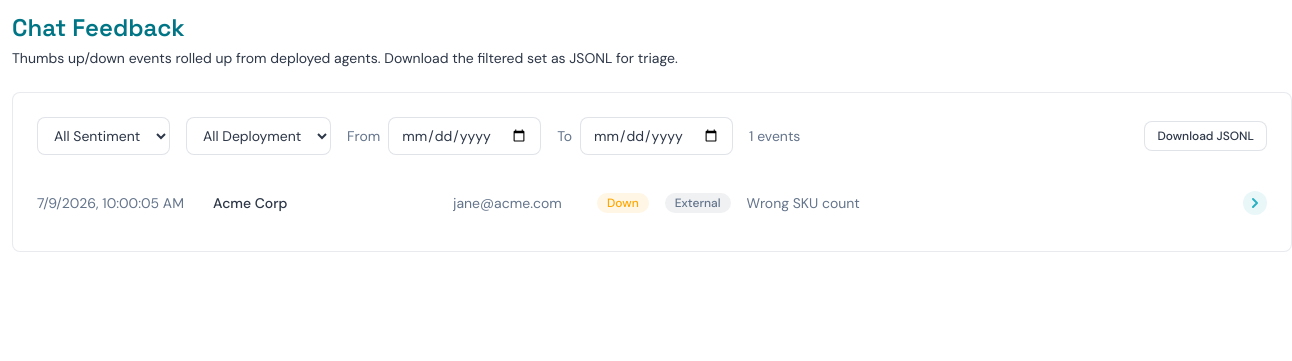
Test: AdminFeedbackPage › clicking a row toggles the detail region showing user_query and assistant_response
Expected: the text "What is the lead time for SKU-123?" is not shown
Click the button with aria-label "feedback from jane@acme.com" at [110, 203], box [37, 179, 1267, 227]
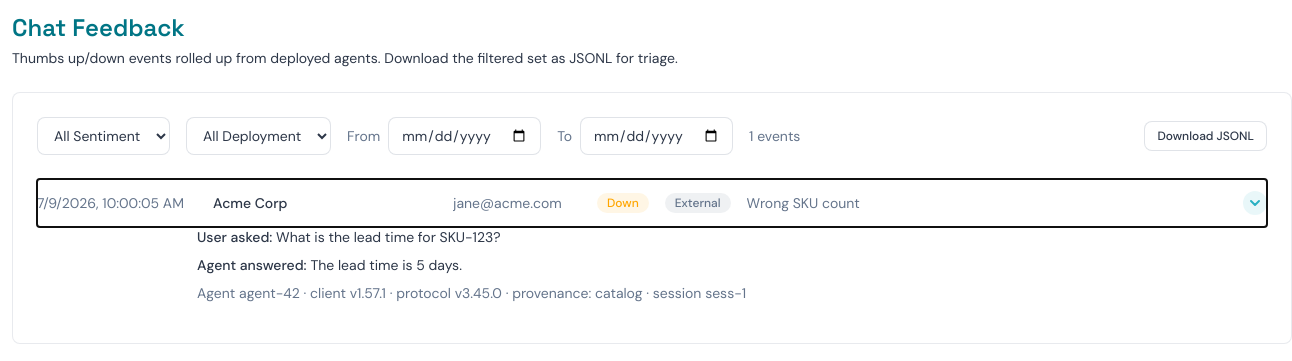
Expected: the text "What is the lead time for SKU-123?" is shown, [276, 228, 501, 246]
Expected: the text "The lead time is 5 days." is shown, [310, 256, 462, 274]
Click the button with aria-label "feedback from jane@acme.com" at [110, 203], box [37, 179, 1267, 227]
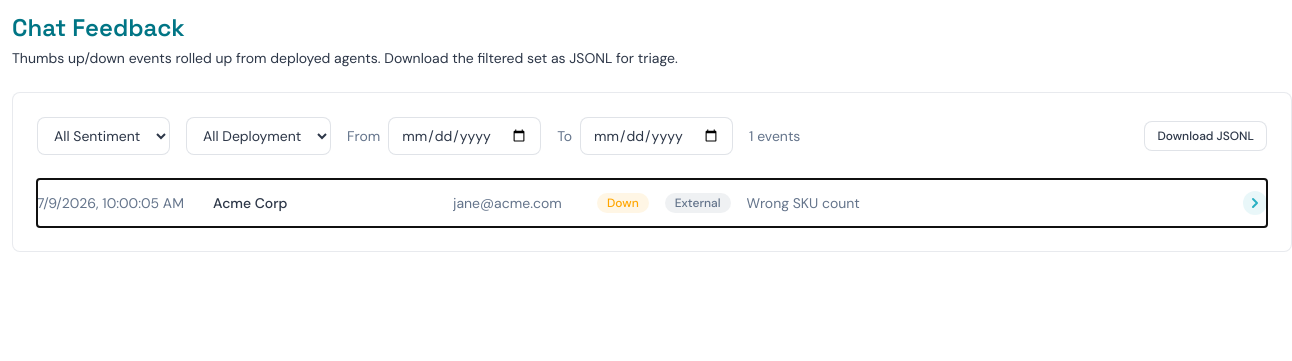
Expected: the text "What is the lead time for SKU-123?" is gone
